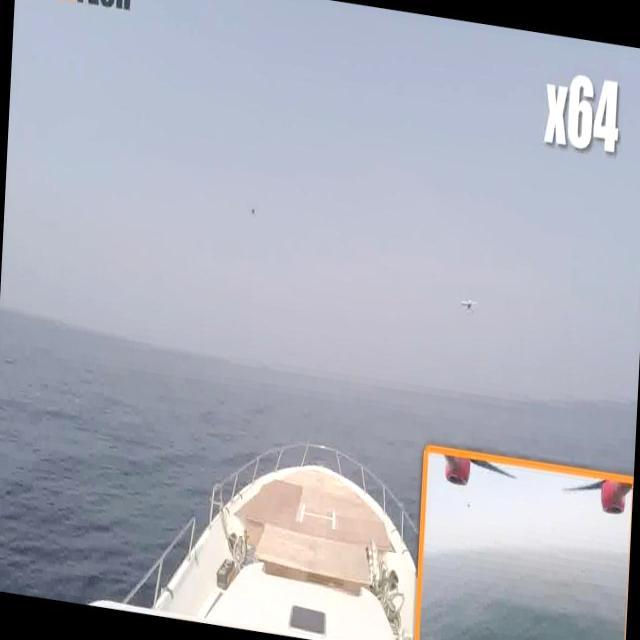drone: (460, 291, 478, 318), (245, 204, 265, 219)
